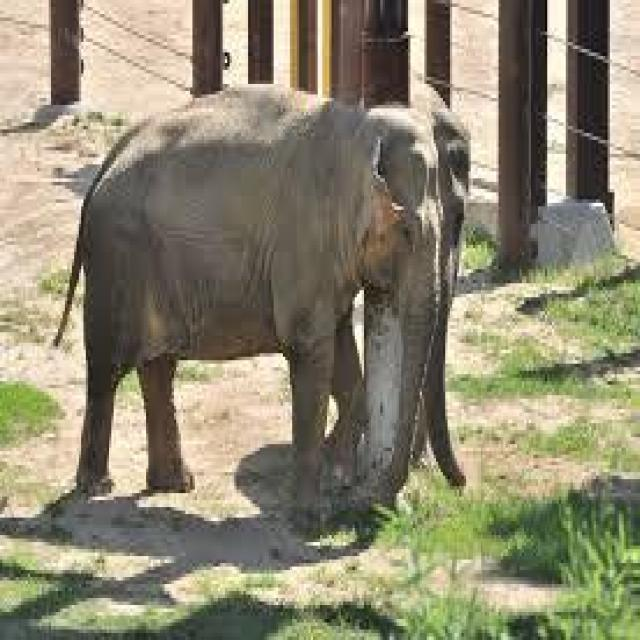Elephant: (51, 84, 441, 511)
